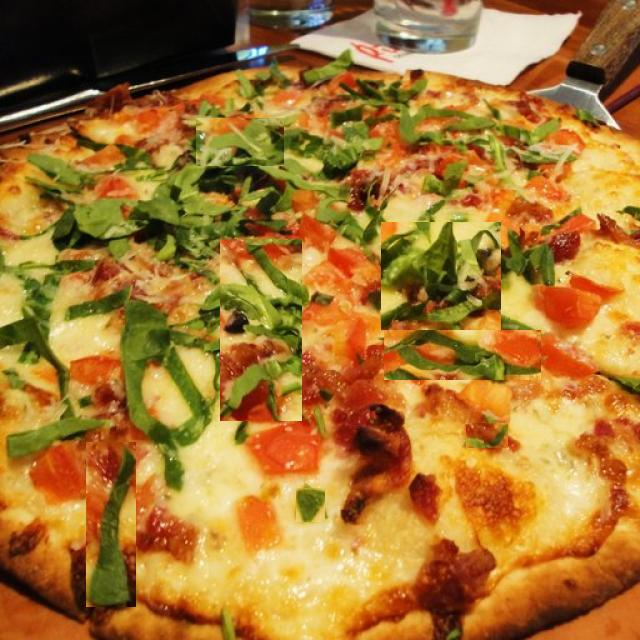basil: (120, 297, 212, 490), (56, 167, 238, 250), (220, 239, 302, 421), (381, 222, 501, 330), (86, 442, 136, 607), (384, 330, 541, 380), (196, 118, 284, 166), (500, 228, 555, 282), (466, 423, 508, 448), (296, 488, 325, 522)
pizza: (0, 65, 640, 640)
